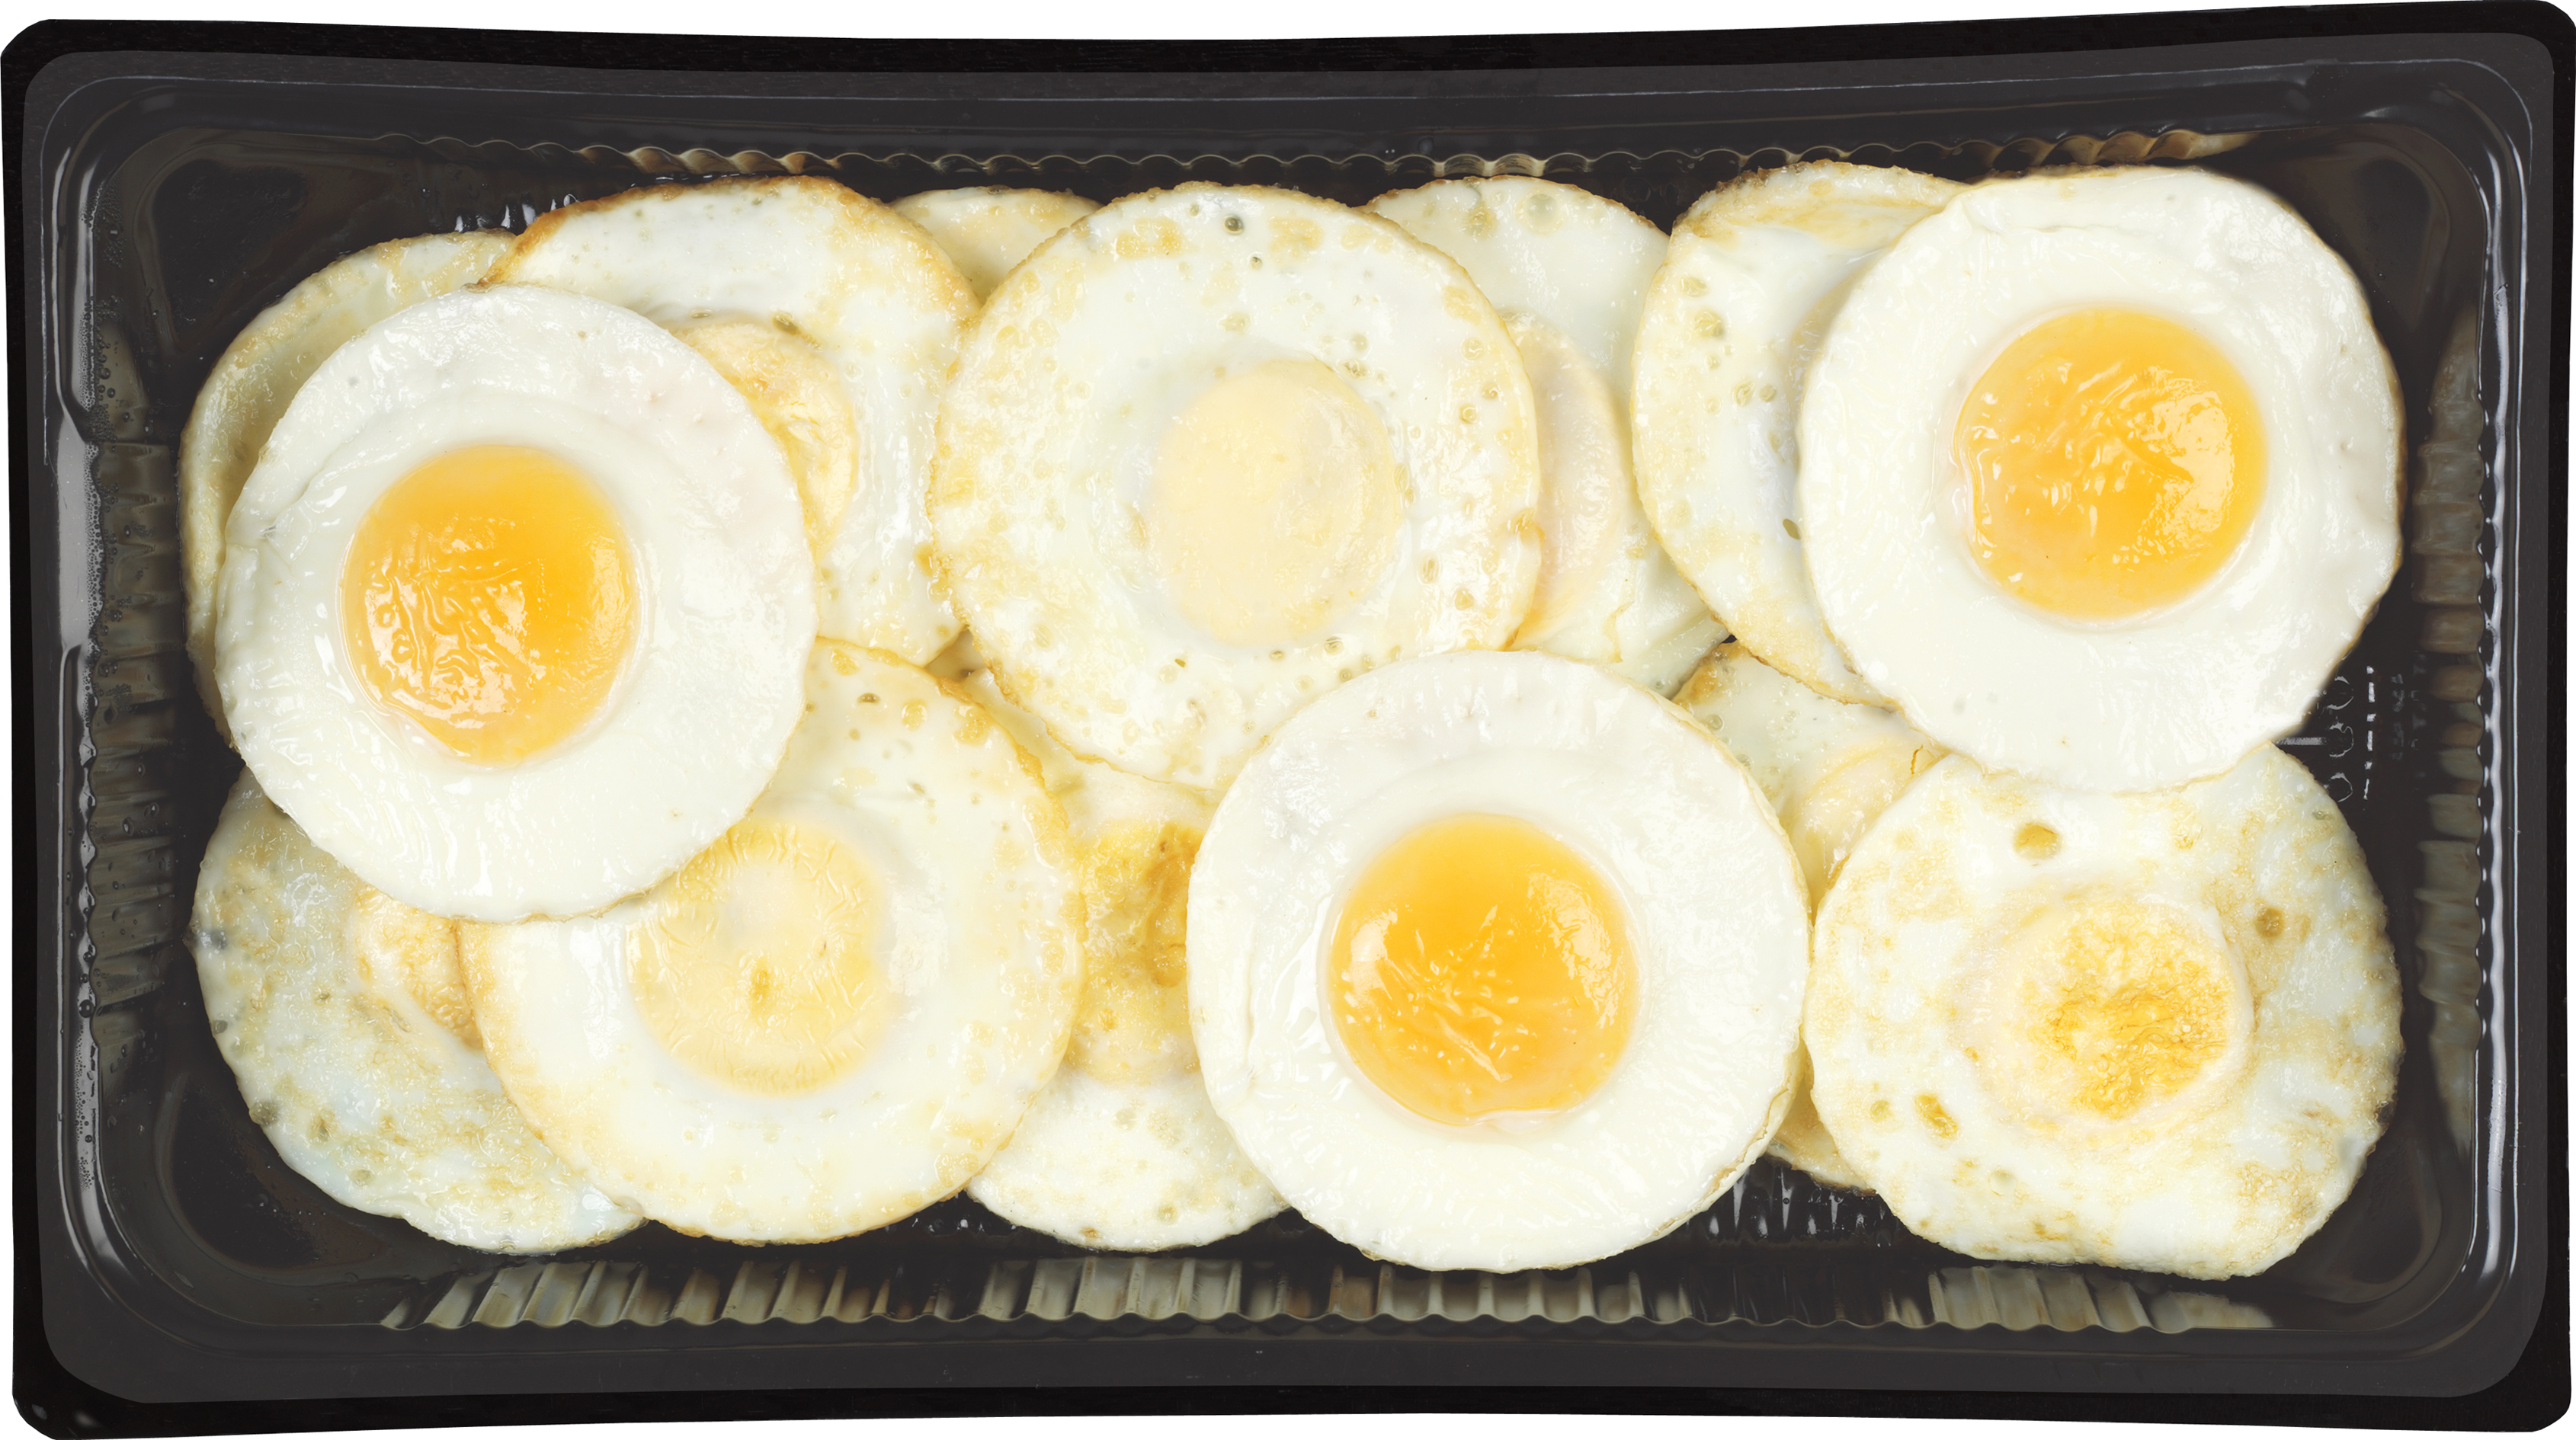fried egg: (211, 188, 2401, 1247), (1171, 695, 1822, 1254), (216, 322, 798, 890), (1835, 205, 2397, 773)
